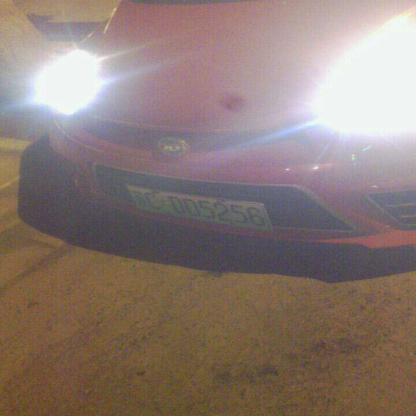lp: (124, 184, 270, 230)
